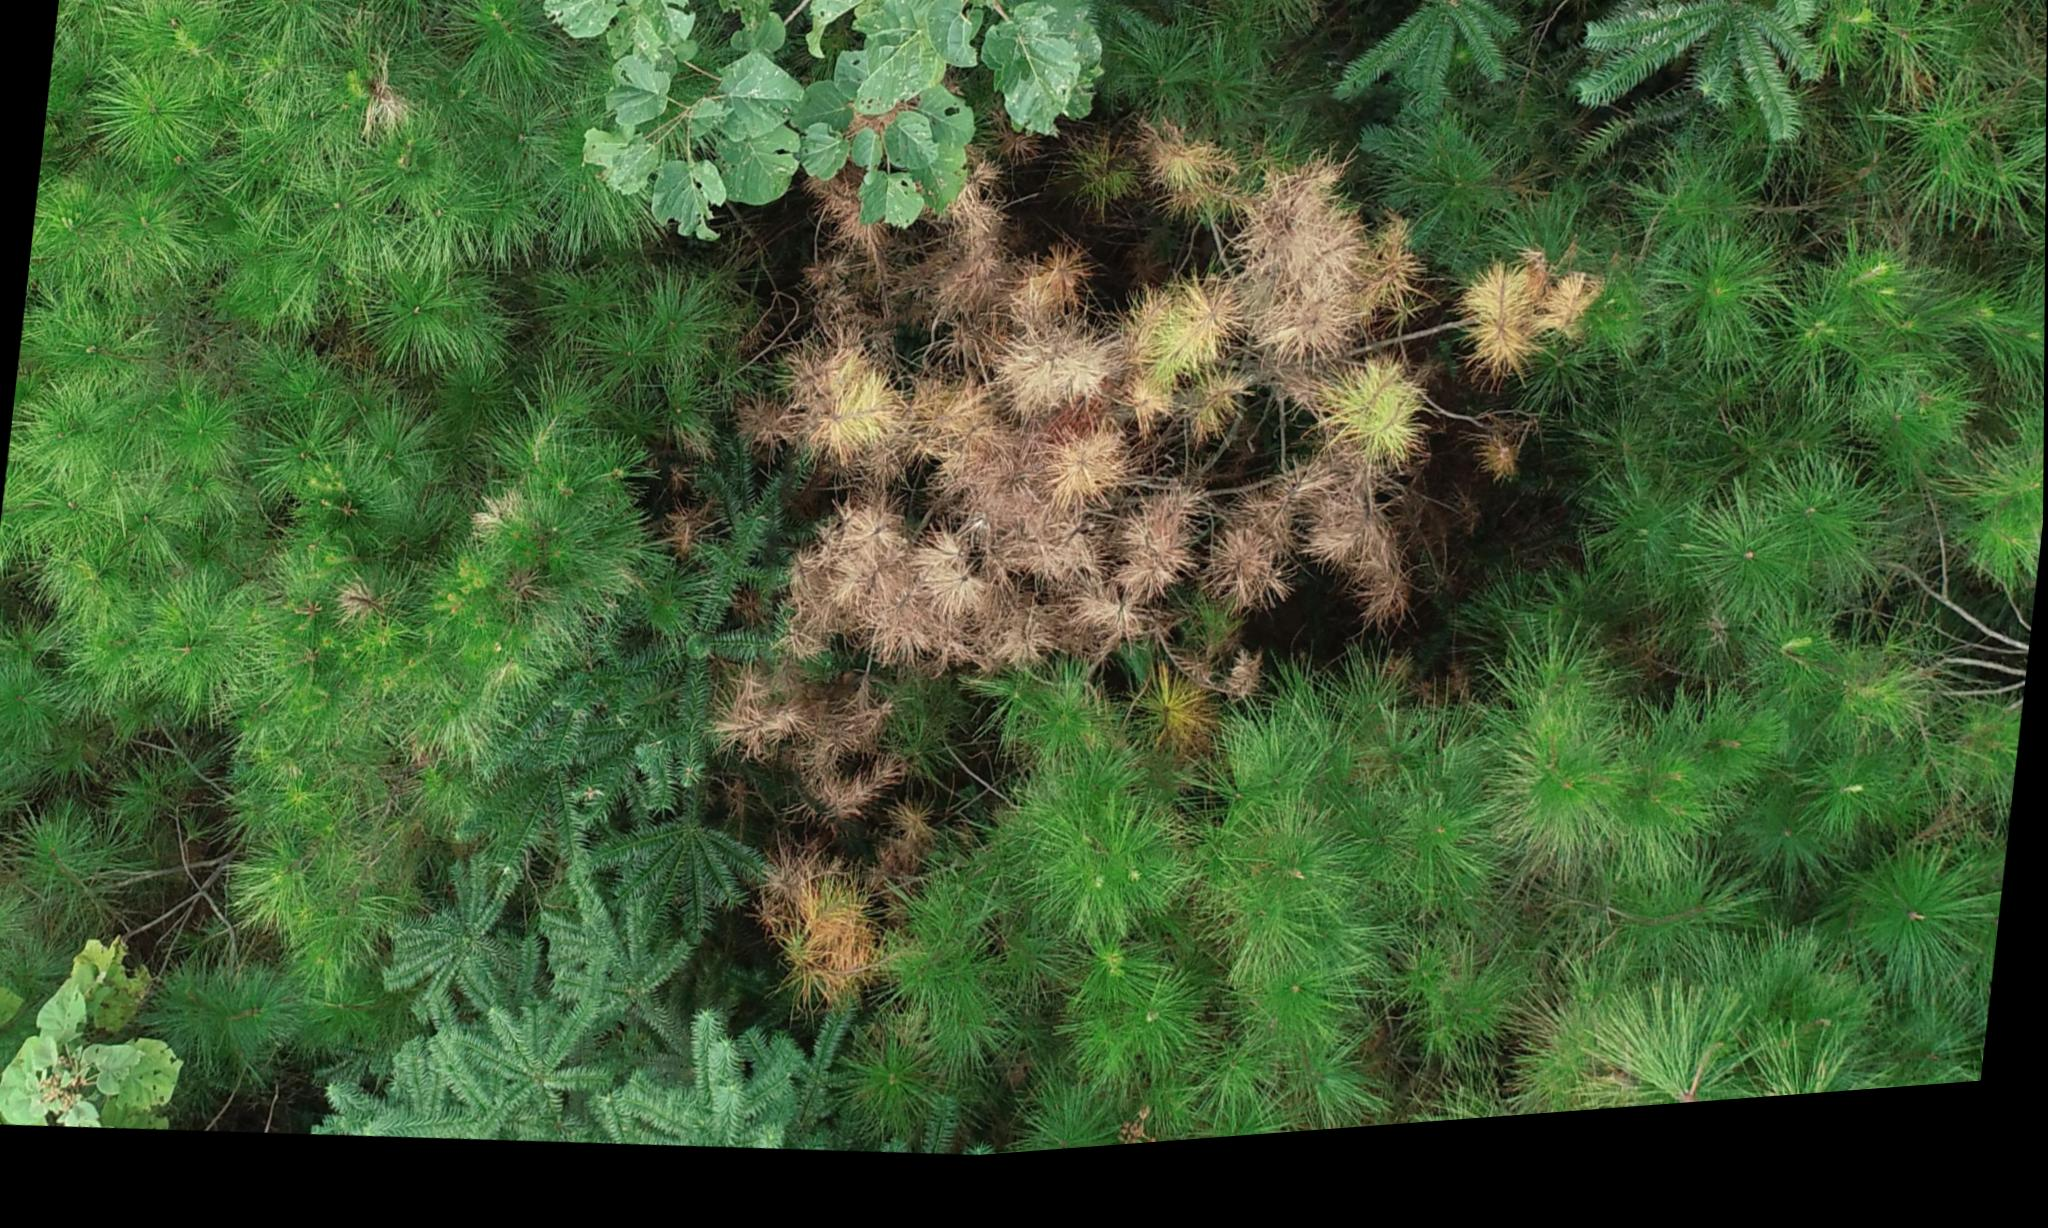heavy: (713, 98, 1609, 1048)
